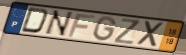D: (19, 6, 50, 35)
F: (66, 13, 97, 38)
G: (92, 15, 118, 43)
N: (42, 9, 75, 38)
X: (136, 20, 166, 49)
Z: (113, 17, 142, 46)
